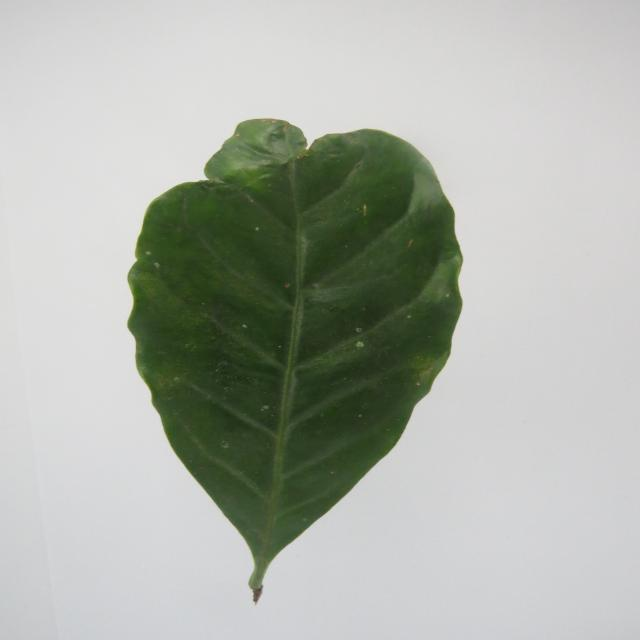DeficienciaNutricional-Boro: (128, 119, 462, 601)
